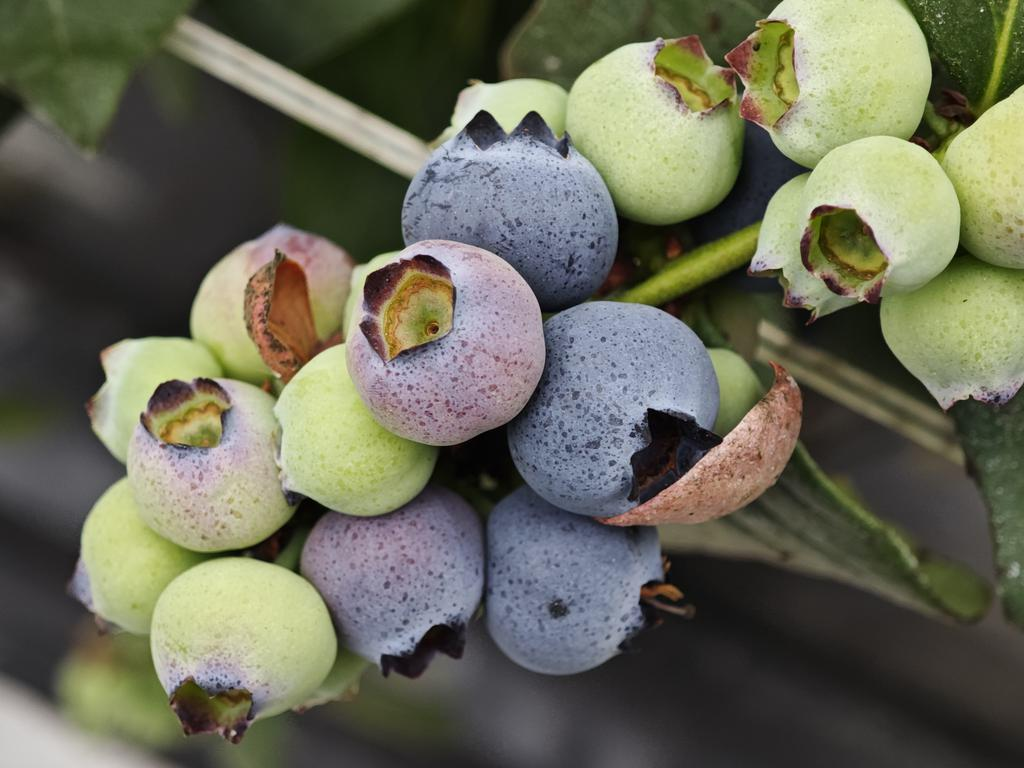RipeBlueBerry: (510, 297, 725, 520), (398, 108, 619, 298), (484, 479, 681, 680), (122, 370, 295, 555)
Semi-RipeBlueBerry: (344, 235, 551, 451)
UnripeBlueBerry: (149, 554, 343, 740), (565, 33, 750, 227)
